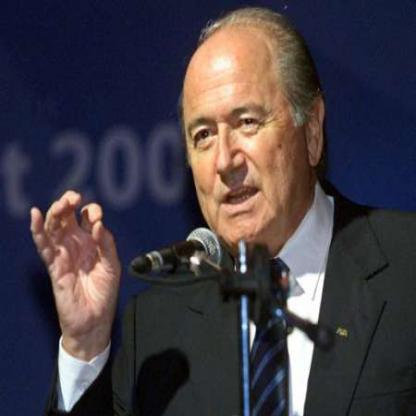face: (178, 25, 309, 255)
